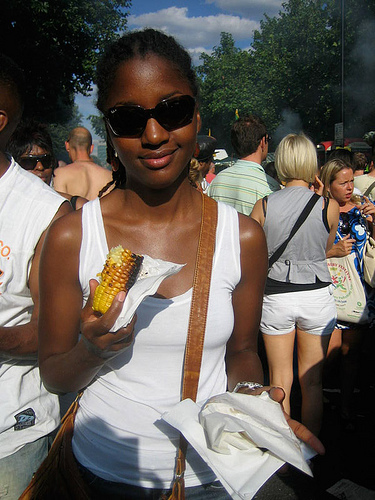corn: (88, 241, 146, 318)
